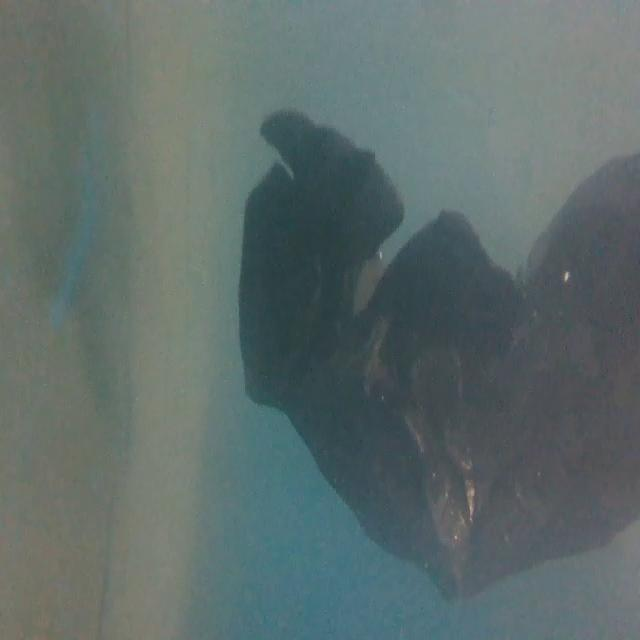plastic bags: (233, 100, 640, 605)
